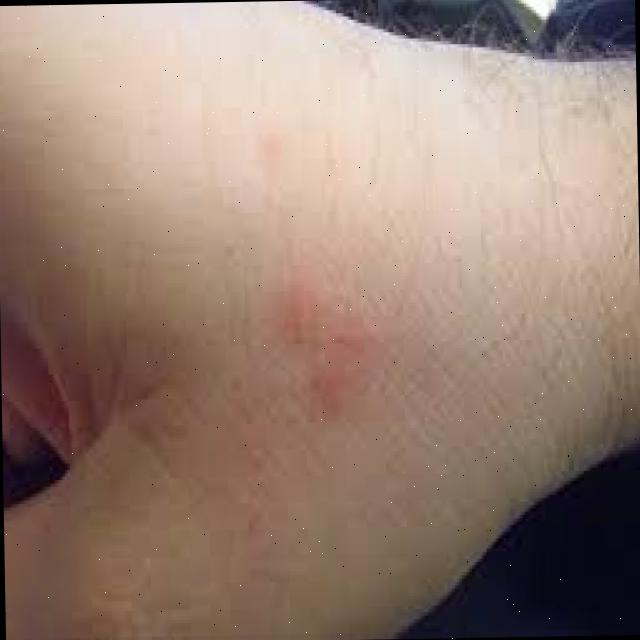kan emici bocekler: (253, 268, 384, 462)
